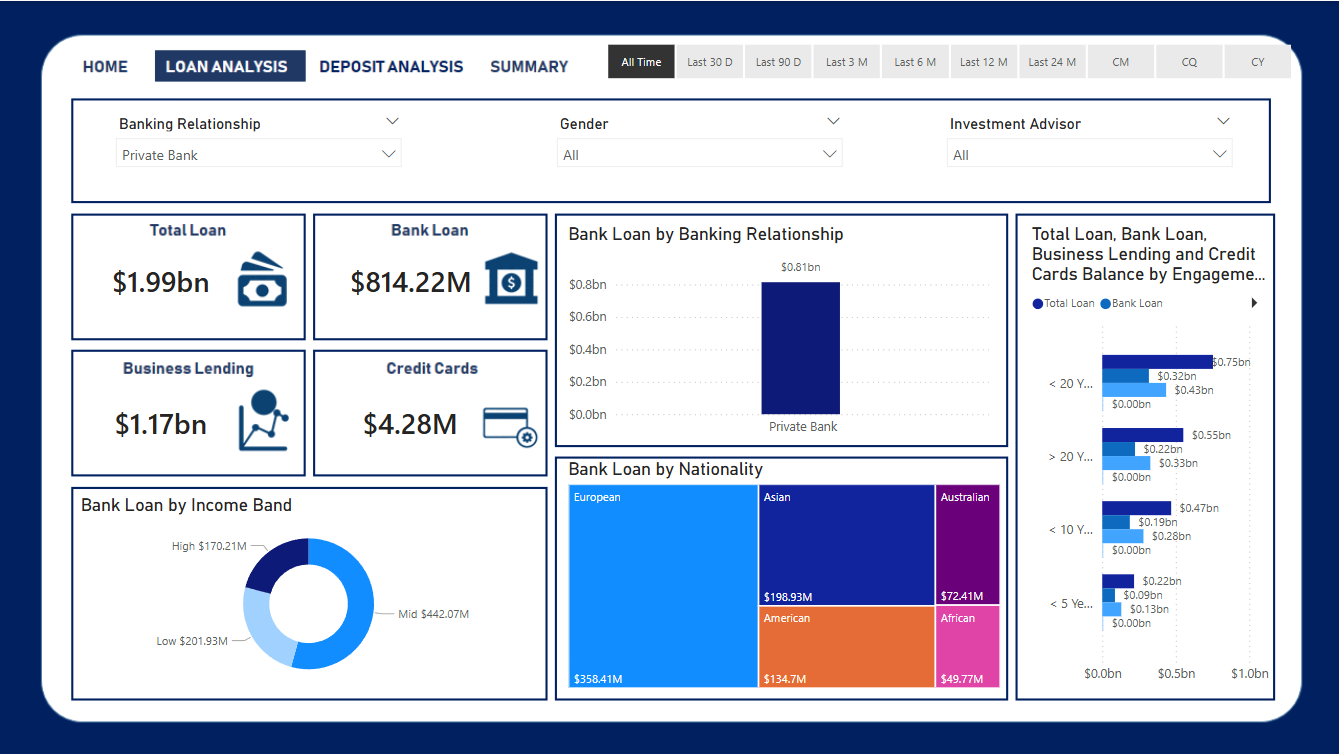

The page's visual inventory and layout, read from the dashboard file:
{"tool":"powerbi","page":{"name":"Loan Analysis","canvas":[1280,720],"ordinal":1},"visuals":[{"type":"card","fields":{"Values":["DAX Measures.Total Loan"]},"box":[72.7,224,161.8,90.3],"z":0},{"type":"card","fields":{"Values":["DAX Measures.Bank Loan"]},"box":[307.2,224,172.4,89.1],"z":1000},{"type":"card","fields":{"Values":["DAX Measures.Credit Cards"]},"box":[307.2,360,171.2,89.1],"z":2000},{"type":"card","fields":{"Values":["DAX Measures.Business Lending"]},"box":[72.7,360,161.8,89.1],"z":3000},{"type":"slicer","fields":{"Values":["Banking Relationship.Banking Relationship"]},"box":[102.3,103.4,292.9,75.7],"z":4000},{"type":"slicer","fields":{"Values":["Gender.Gender"]},"box":[522.7,103.4,292.9,75.7],"z":5000},{"type":"slicer","fields":{"Values":["Investment Advisor.Investment Advisor"]},"box":[895,103.4,292.9,75.7],"z":6000},{"type":"donutChart","fields":{"Category":["Clients - Banking.Income Band"],"Y":["DAX Measures.Bank Loan"]},"box":[72.7,471.4,444.4,188.8],"z":7000},{"type":"clusteredBarChart","fields":{"Category":["Clients - Banking.Engagement Timeframe"],"Y":["DAX Measures.Total Loan","DAX Measures.Bank Loan","DAX Measures.Business Lending","DAX Measures.Credit Cards"]},"box":[981.5,212.2,236.9,447.9],"z":8000},{"type":"treemap","fields":{"Group":["Clients - Banking.Nationality"],"Values":["DAX Measures.Bank Loan"]},"box":[538.2,436.2,422.1,224],"z":9000},{"type":"lineClusteredColumnComboChart","fields":{"Y":["DAX Measures.Bank Loan"],"Category":["Banking Relationship.Banking Relationship"]},"box":[538.2,212.2,411.6,212.2],"z":10000},{"type":"slicer","fields":{"Values":["Period.Name"]},"box":[555.2,34.6,702.1,46.6],"z":11000},{"type":"actionButton","box":[72.8,44.2,58.5,31],"z":12000},{"type":"actionButton","box":[306.9,44.7,119.4,31],"z":13000},{"type":"actionButton","box":[471.6,44.2,83.6,31],"z":14000}]}

Visuals, with their boxes in screenshot pixels (x1, y1, x2, y2), scaled from the page's 1280x720 canvas onto the 1339x754 screenshot:
card - DAX Measures.Total Loan: bbox=[76, 235, 245, 329]
card - DAX Measures.Bank Loan: bbox=[321, 235, 502, 328]
card - DAX Measures.Credit Cards: bbox=[321, 377, 500, 470]
card - DAX Measures.Business Lending: bbox=[76, 377, 245, 470]
slicer - Banking Relationship.Banking Relationship: bbox=[107, 108, 413, 188]
slicer - Gender.Gender: bbox=[547, 108, 853, 188]
slicer - Investment Advisor.Investment Advisor: bbox=[936, 108, 1243, 188]
donutChart - Clients - Banking.Income Band x DAX Measures.Bank Loan: bbox=[76, 494, 541, 691]
clusteredBarChart - Clients - Banking.Engagement Timeframe x DAX Measures.Total Loan: bbox=[1027, 222, 1275, 691]
treemap - Clients - Banking.Nationality x DAX Measures.Bank Loan: bbox=[563, 457, 1005, 691]
lineClusteredColumnComboChart - DAX Measures.Bank Loan x Banking Relationship.Banking Relationship: bbox=[563, 222, 994, 444]
slicer - Period.Name: bbox=[581, 36, 1315, 85]
actionButton: bbox=[76, 46, 137, 79]
actionButton: bbox=[321, 47, 446, 79]
actionButton: bbox=[493, 46, 581, 79]
